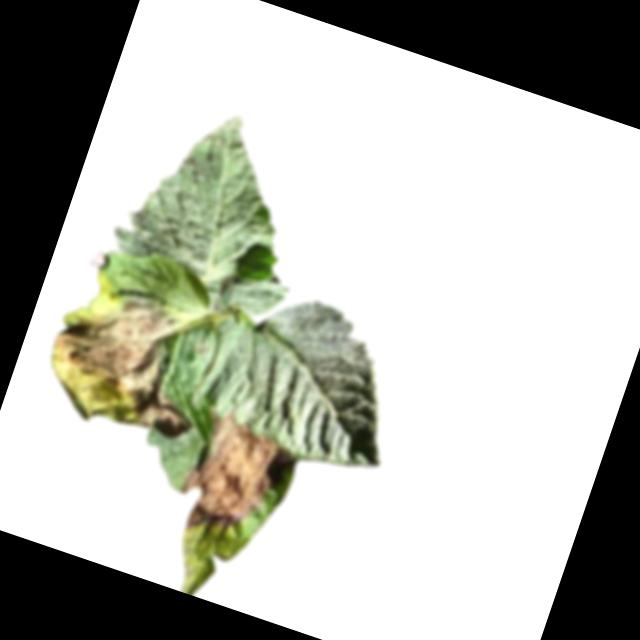Late_blight: (34, 271, 230, 454), (168, 405, 288, 551)
healthy: (100, 87, 337, 327), (201, 277, 427, 482)
